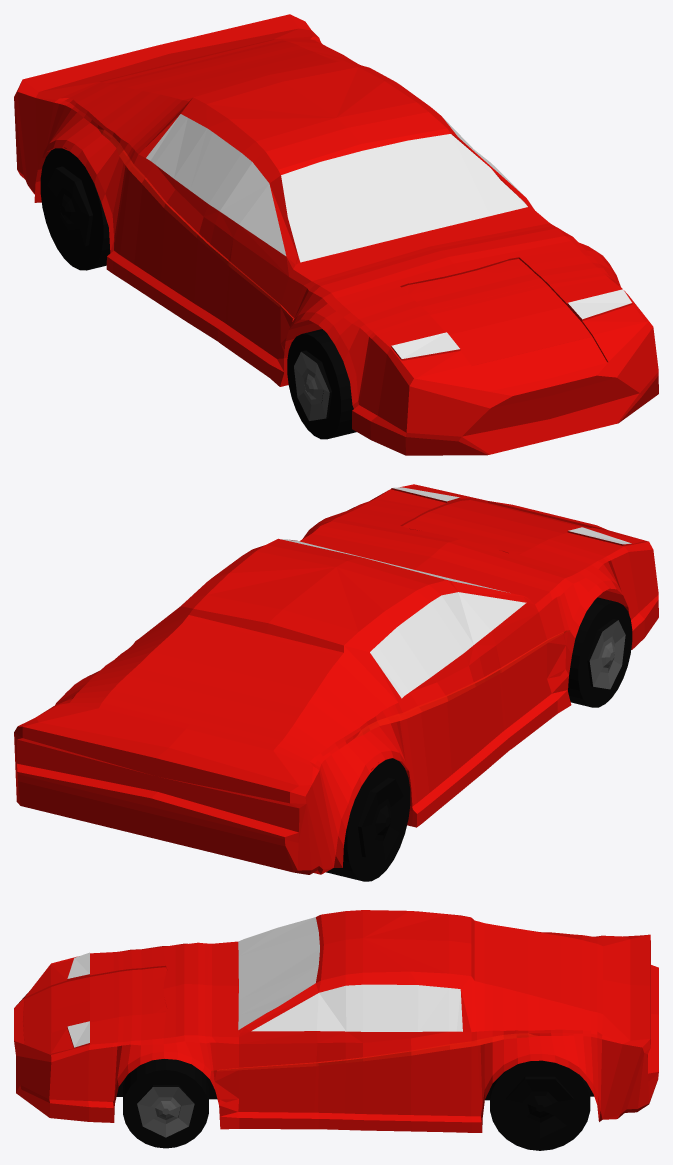
File: Car.fbx
The picture shows the model from 3 angles, top to bottom: view 1: azimuth 30°, elevation 25°; view 2: azimuth 150°, elevation 25°; view 3: azimuth 270°, elevation 25°; orthographic projection. The views are drawn at different scales.
Parts seen in each view (by area): view 1: Cube, Cylinder.002, Cylinder.003; view 2: Cube, Cylinder.002, Cylinder.003; view 3: Cube, Cylinder.001, Cylinder.
Part boxes in pixels (x1,y1,x2,y2): Cube: [14, 14, 658, 455]; Cylinder.002: [40, 147, 110, 270]; Cylinder.003: [287, 329, 356, 439]; Cube: [14, 484, 658, 874]; Cylinder.002: [326, 758, 410, 881]; Cylinder.003: [568, 597, 632, 707]; Cube: [14, 910, 658, 1132]; Cylinder.001: [490, 1060, 590, 1150]; Cylinder: [123, 1059, 208, 1148].
Size of the model in its own units: 1527 by 865 by 3297.
